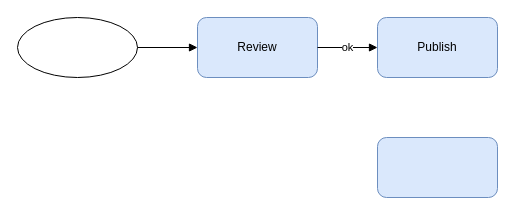
The diagram is 515 pixels wide and 215 high, and some of its shapes have lost their labels. Each missing label, with the centre of its shape:
Archive: pixel 437 167
Start: pixel 77 47
